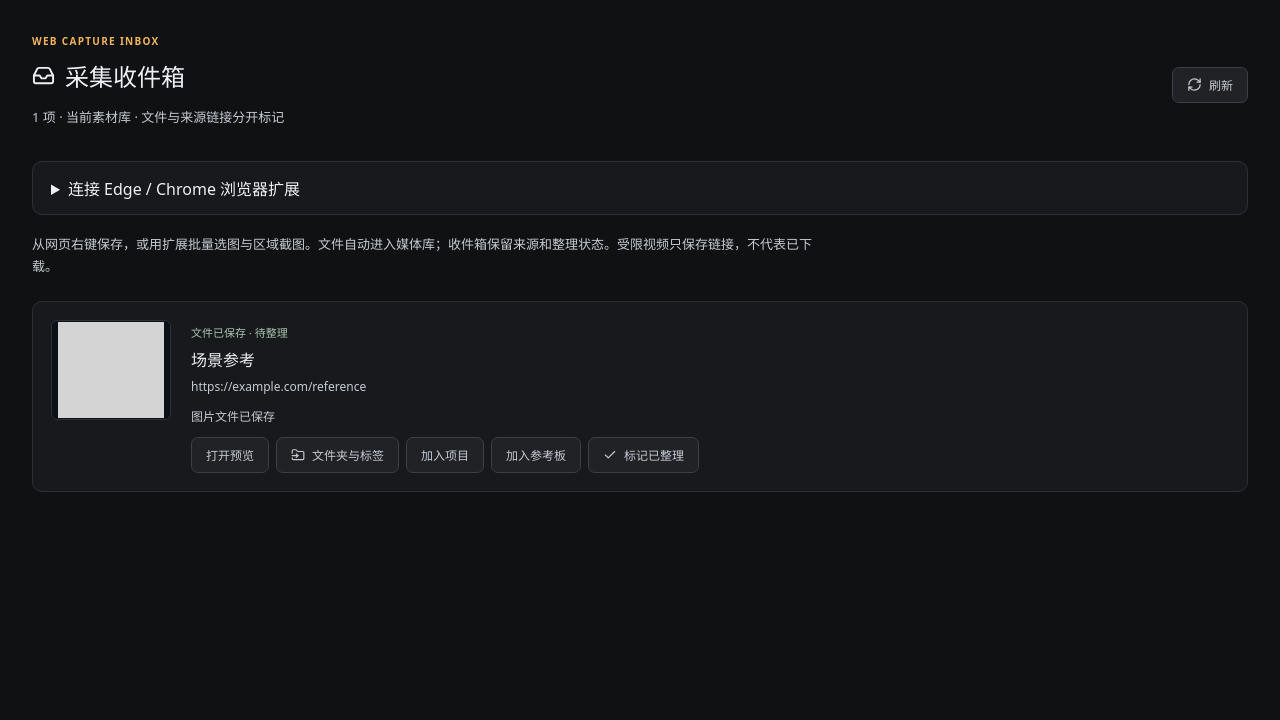
Test: BrowserCaptureInbox › organizes the saved entry without copying files and binds completion to the loaded library UUID
Expected: the heading "场景参考" is shown, top-left (191, 349), bottom-right (255, 371)
Click the button "文件夹与标签". click: (338, 455)
box: top-left (276, 437), bottom-right (399, 473)
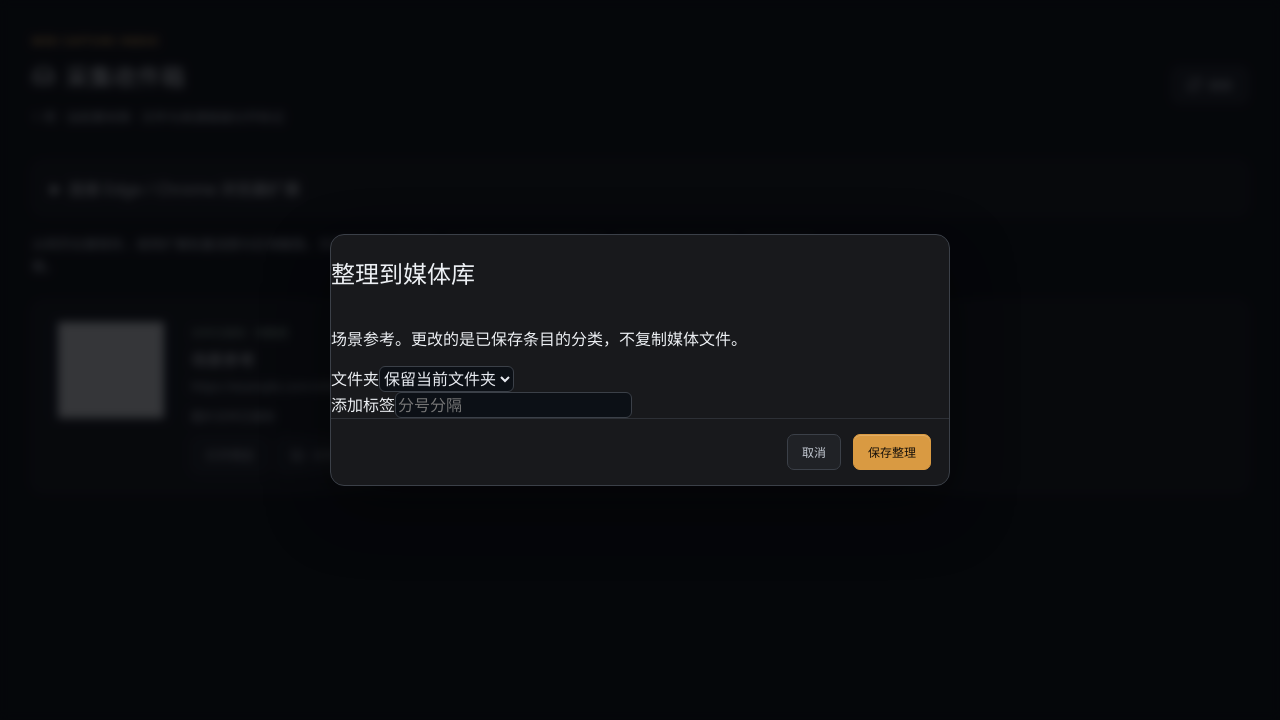
Select "环境" in the dropdown labelled "文件夹". click: (446, 379)
box: top-left (379, 366), bottom-right (514, 392)
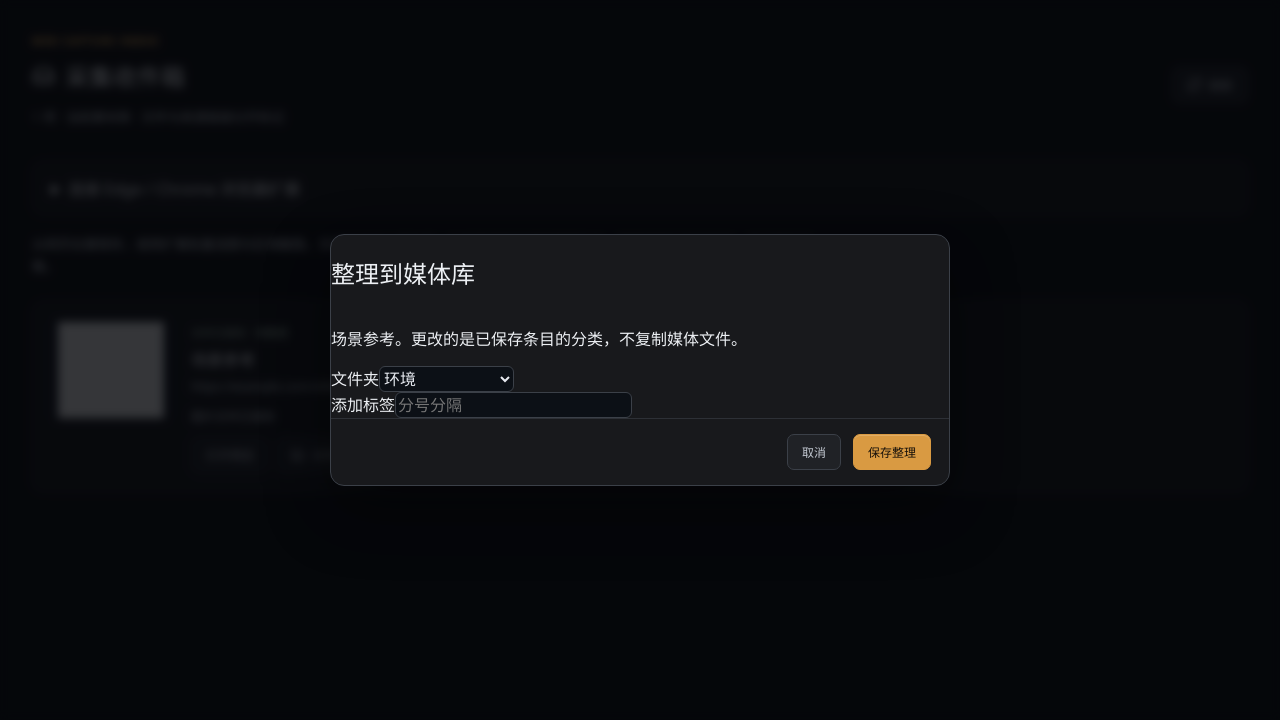
Type " UE5；环境 ; " into the field labelled "添加标签". click: (514, 405)
box: top-left (395, 392), bottom-right (632, 418)
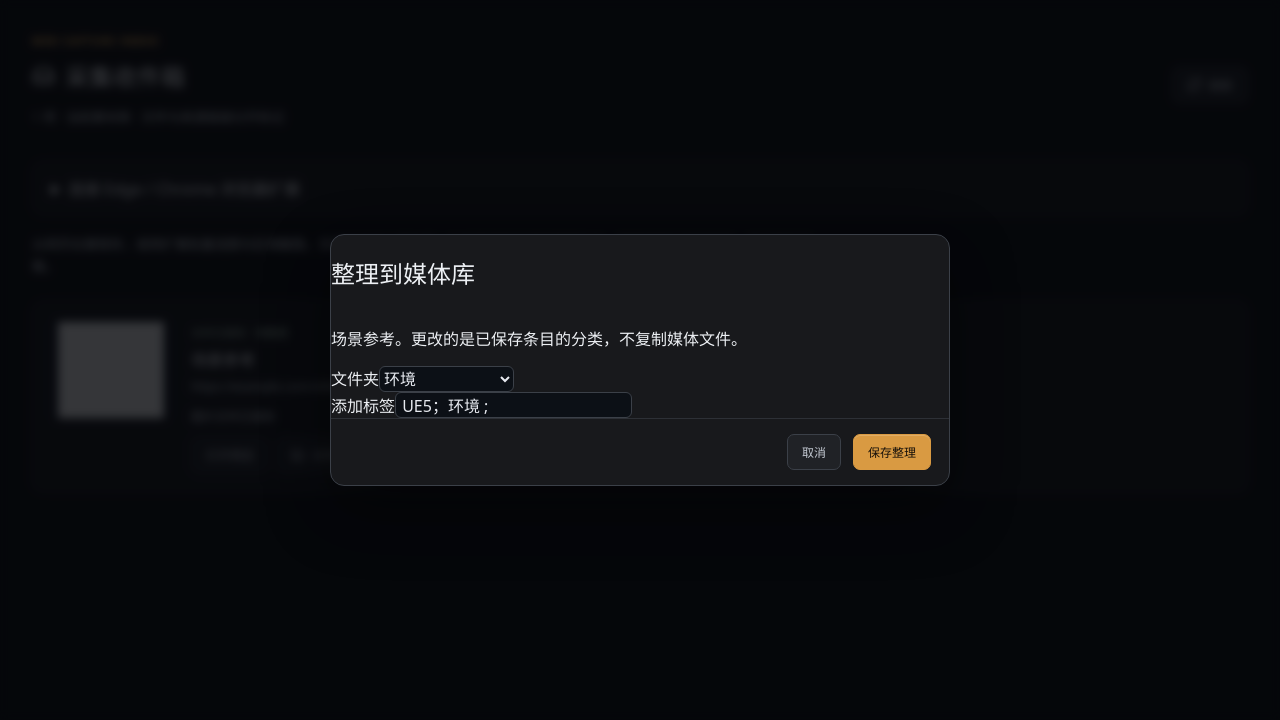
Click the button "保存整理". click: (892, 452)
box: top-left (853, 434), bottom-right (931, 470)
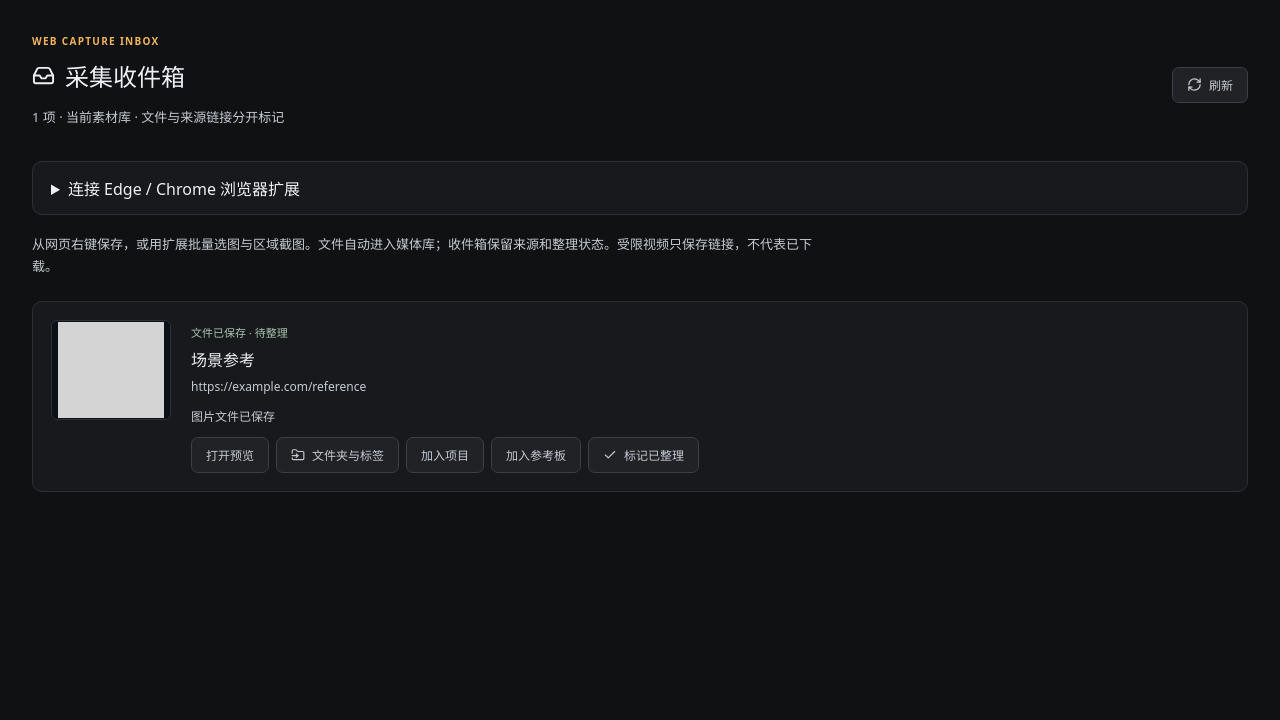
Now the dialog is gone
